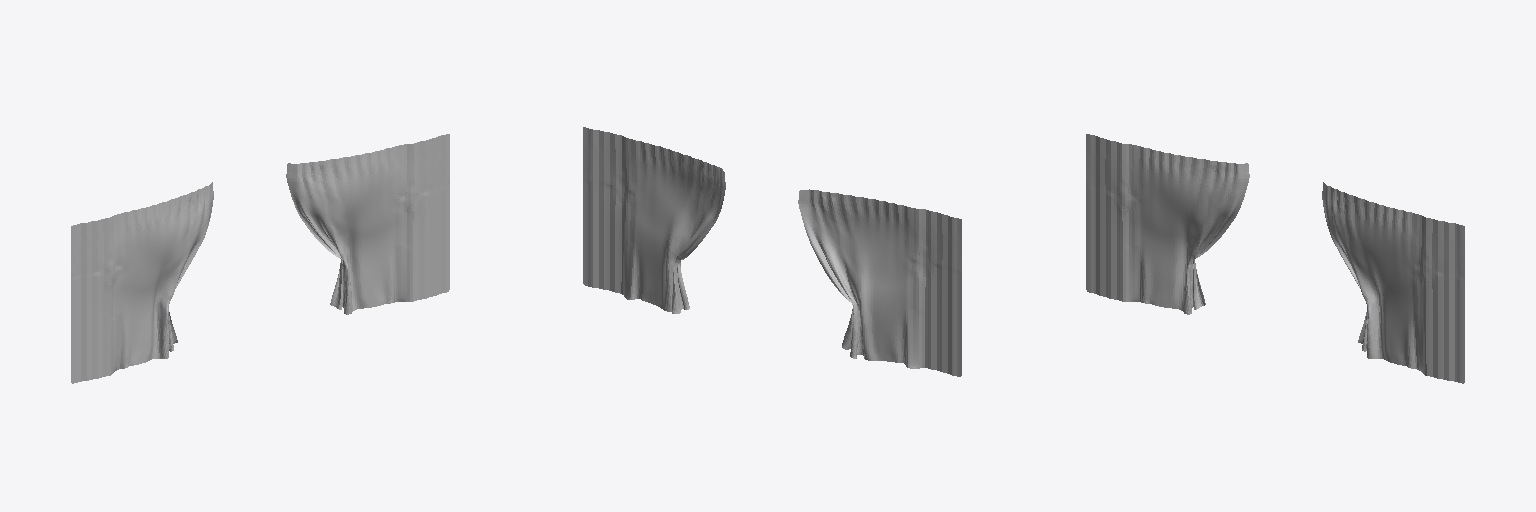
The model's file is curtainFront.obj.
3 renders of one model, left to right at view 1: azimuth 30°, elevation 25°; view 2: azimuth 150°, elevation 25°; view 3: azimuth 330°, elevation 25°, orthographic.
Visible parts, largest first — view 1: Curtains.001_Plane.006; view 2: Curtains.001_Plane.006; view 3: Curtains.001_Plane.006.
Part boxes in pixels (x1,y1,x2,y2): Curtains.001_Plane.006: (71, 134, 449, 383); Curtains.001_Plane.006: (583, 127, 961, 376); Curtains.001_Plane.006: (1086, 134, 1464, 383).
Bounding box in the file's own units: 16.38 × 6.58 × 0.9112.